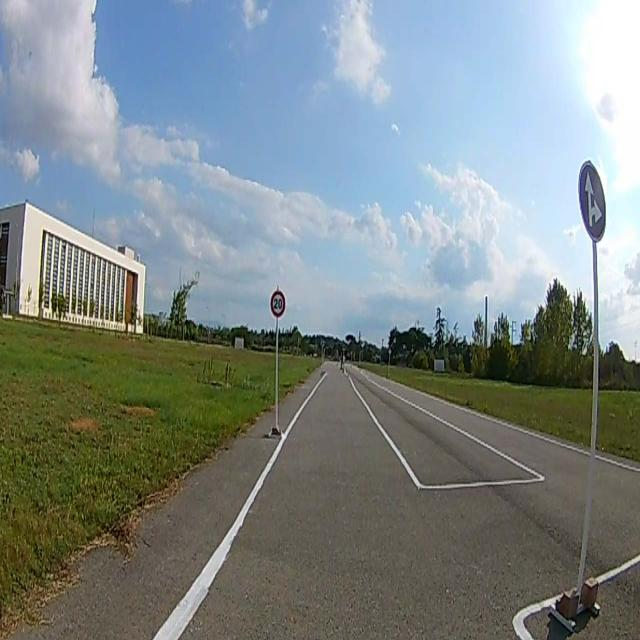20: (272, 290, 284, 318)
ilerisag: (579, 161, 607, 243)
